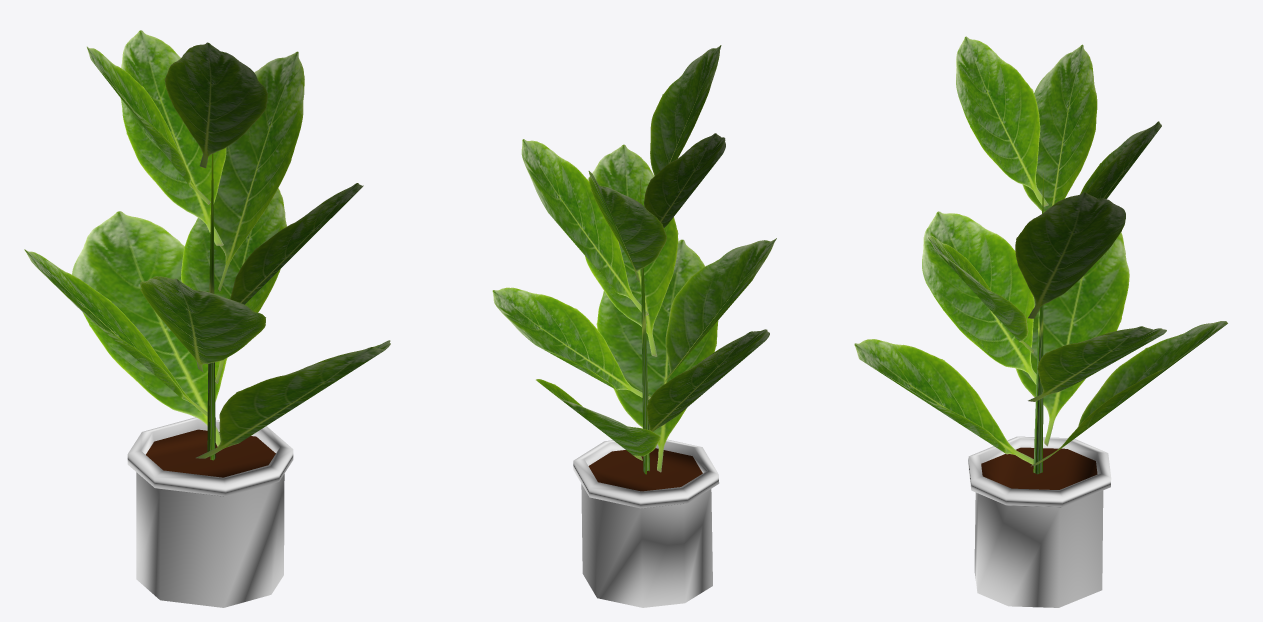
File: Plant.fbx
3 views of the same model, side by side, from view 1: azimuth 30°, elevation 25°; view 2: azimuth 150°, elevation 25°; view 3: azimuth 270°, elevation 25° (orthographic). The views are drawn at different scales.
Visible parts, largest first — view 1: Plane.006; view 2: Plane.006; view 3: Plane.006.
Boxes of the visible parts, x1,y1,x2,y2 form: Plane.006: [24, 30, 390, 607]; Plane.006: [492, 45, 776, 607]; Plane.006: [854, 36, 1227, 607].
Bounding box in the file's own units: 114 × 191 × 130.
3 materials, 1 textured.
